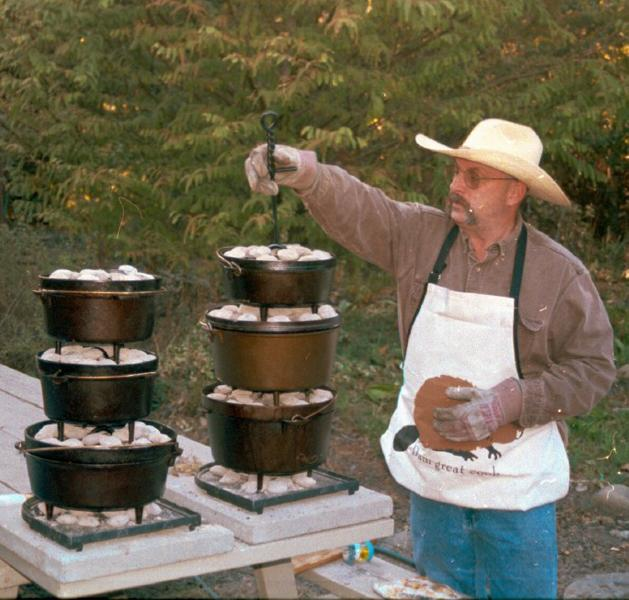person: (246, 117, 619, 600)
